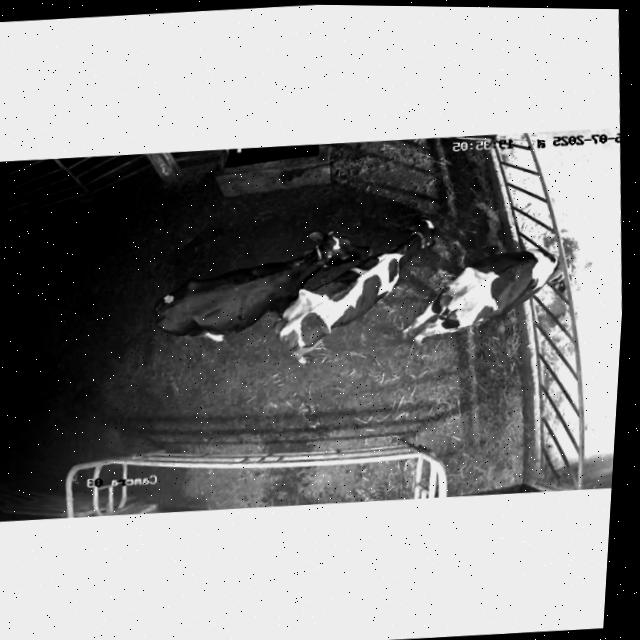stand: (154, 230, 373, 341), (275, 218, 434, 364)
